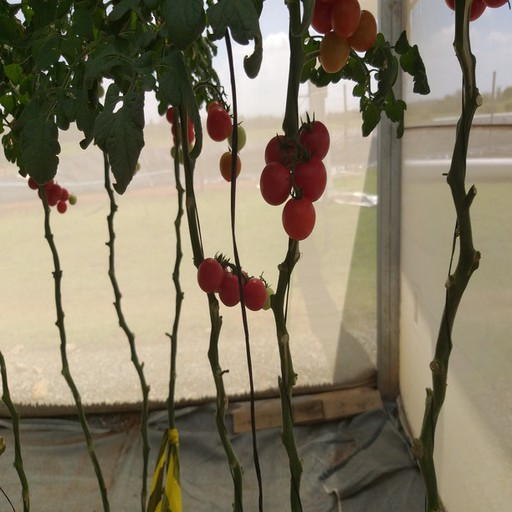mixed tomato bunch: (205, 91, 243, 180)
red tomato bunch: (262, 120, 338, 241), (301, 1, 379, 75), (197, 256, 273, 309), (27, 173, 77, 214), (164, 102, 195, 161)
